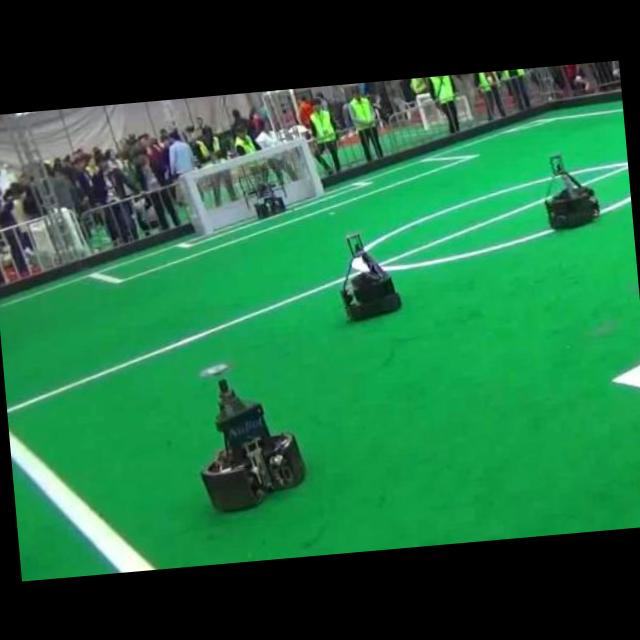goal: (182, 171, 213, 232), (301, 137, 322, 194)
robot: (201, 378, 303, 509), (341, 232, 399, 318), (545, 154, 598, 226), (254, 181, 287, 217)
